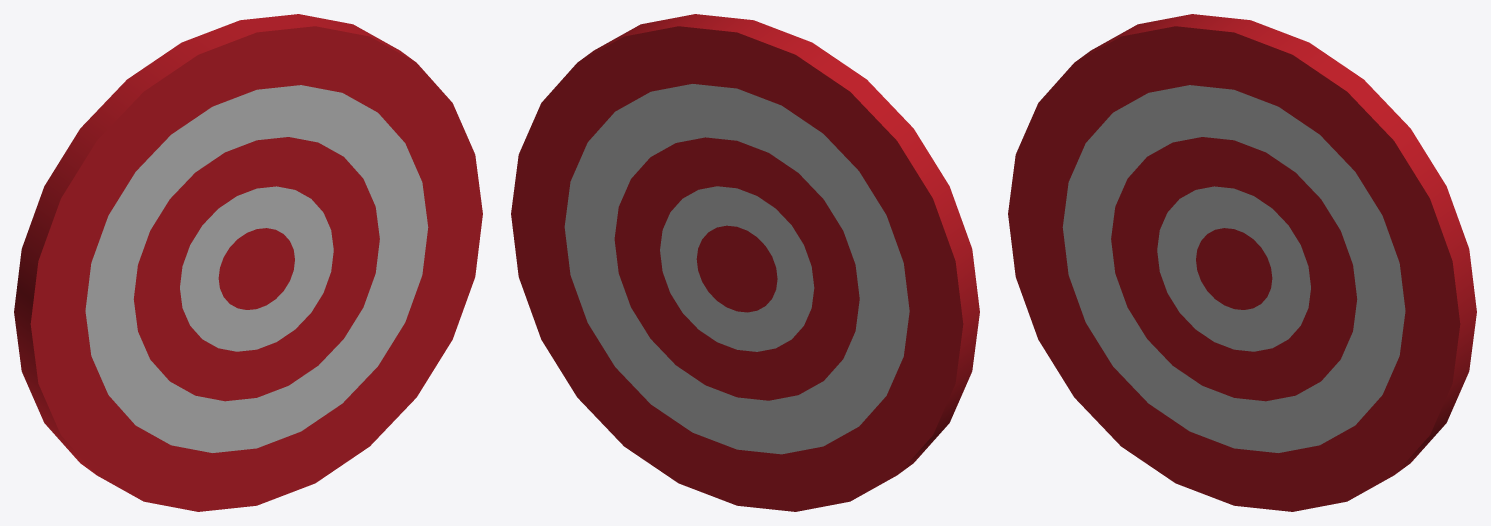
File: Diana Duelo.fbx
3 views of the same model, side by side, from view 1: azimuth 30°, elevation 25°; view 2: azimuth 150°, elevation 25°; view 3: azimuth 330°, elevation 25° (orthographic).
Visible parts, largest first — view 1: Cylinder; view 2: Cylinder; view 3: Cylinder.
Boxes of the visible parts, box(x1,y1,x2,y2) form: Cylinder: box(14, 14, 482, 511); Cylinder: box(511, 14, 979, 511); Cylinder: box(1008, 14, 1476, 511).
Bounding box in the file's own units: 200 × 200 × 12.78.
